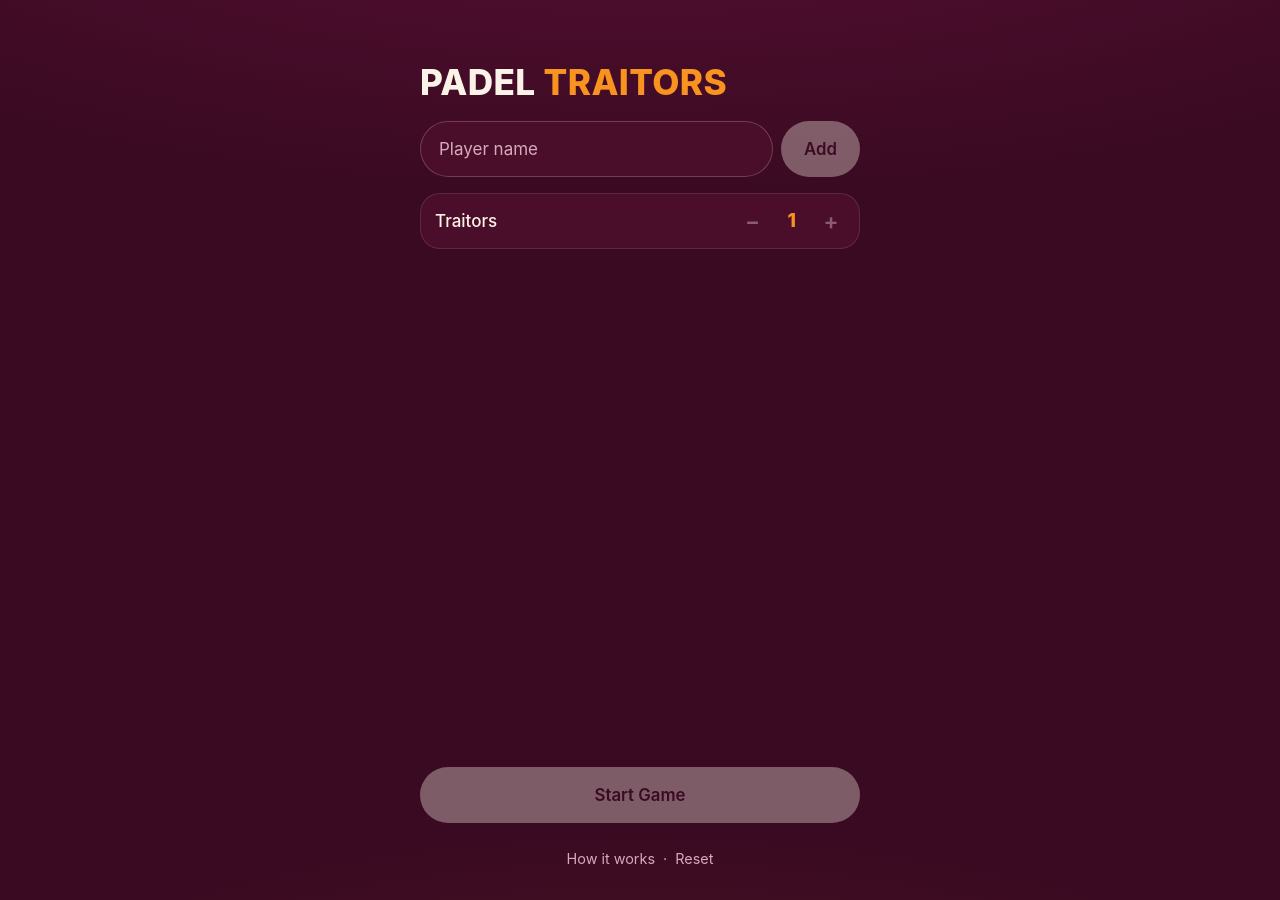
setup › keeps at least one Faithful
This screenshot has width=1280, height=900.
In the field labelled "Player name": (597, 149) [420, 121, 773, 177], type "Ana"
Then press Enter
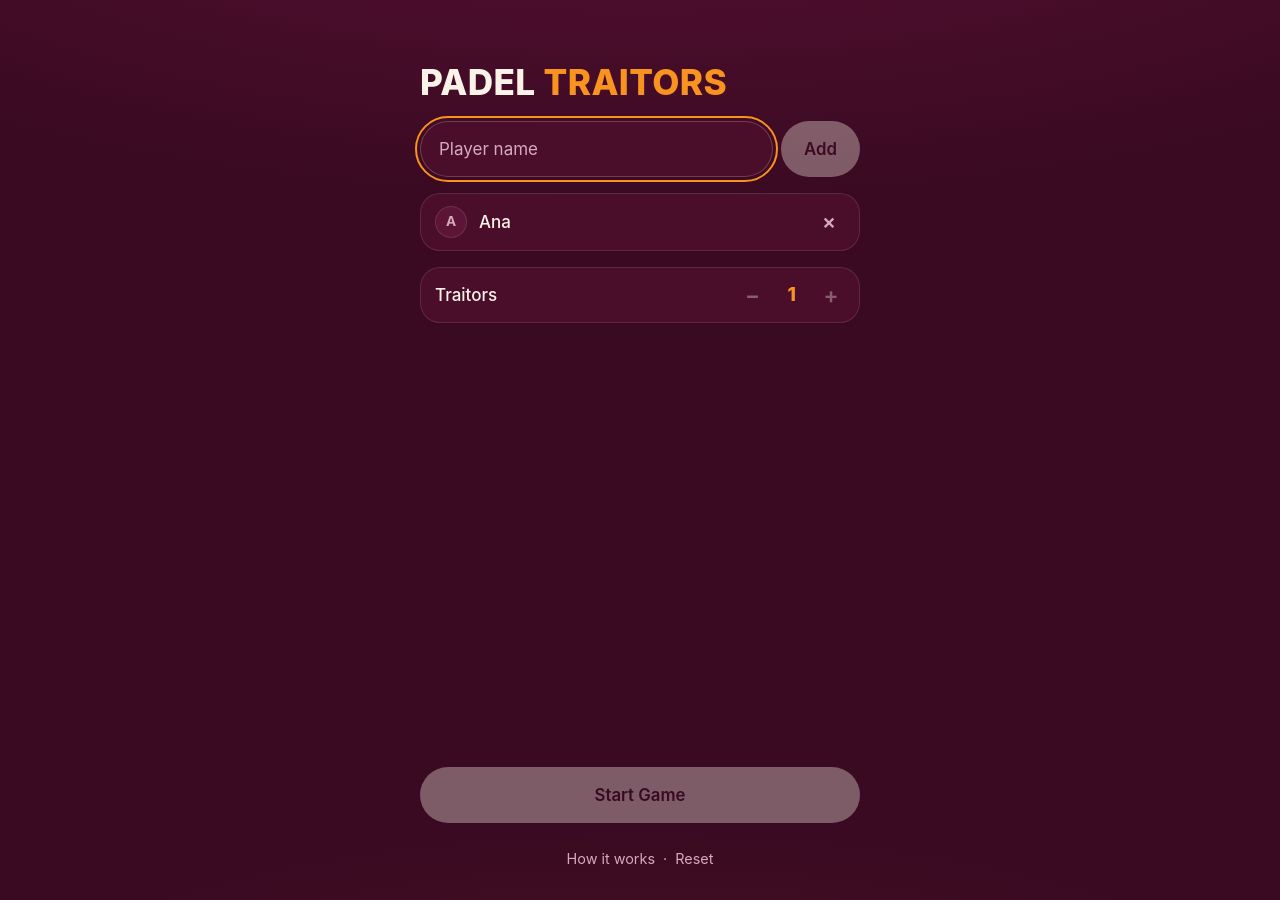
In the field labelled "Player name": (597, 149) [420, 121, 773, 177], type "Ben"
Then press Enter
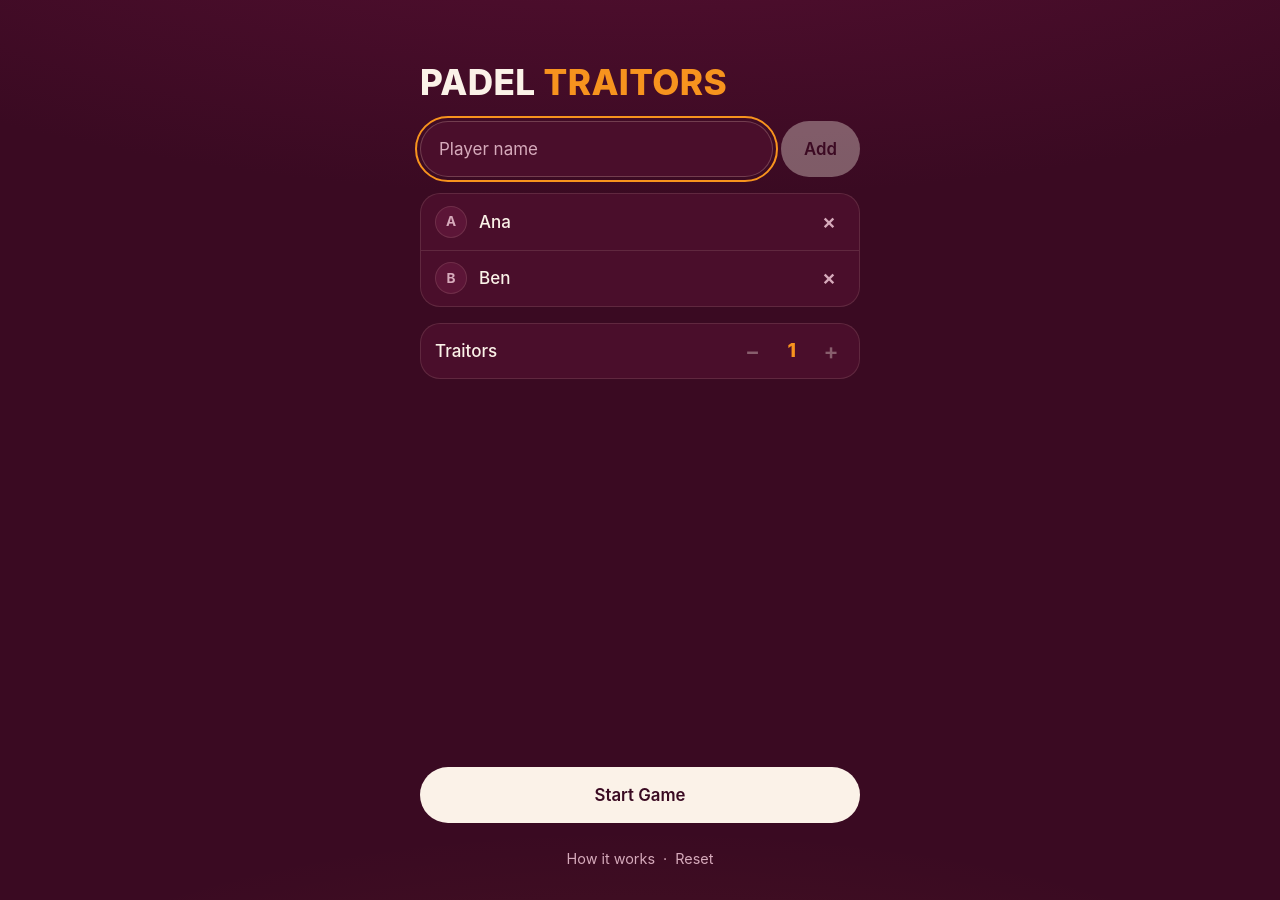
In the field labelled "Player name": (597, 149) [420, 121, 773, 177], type "Cal"
Then press Enter
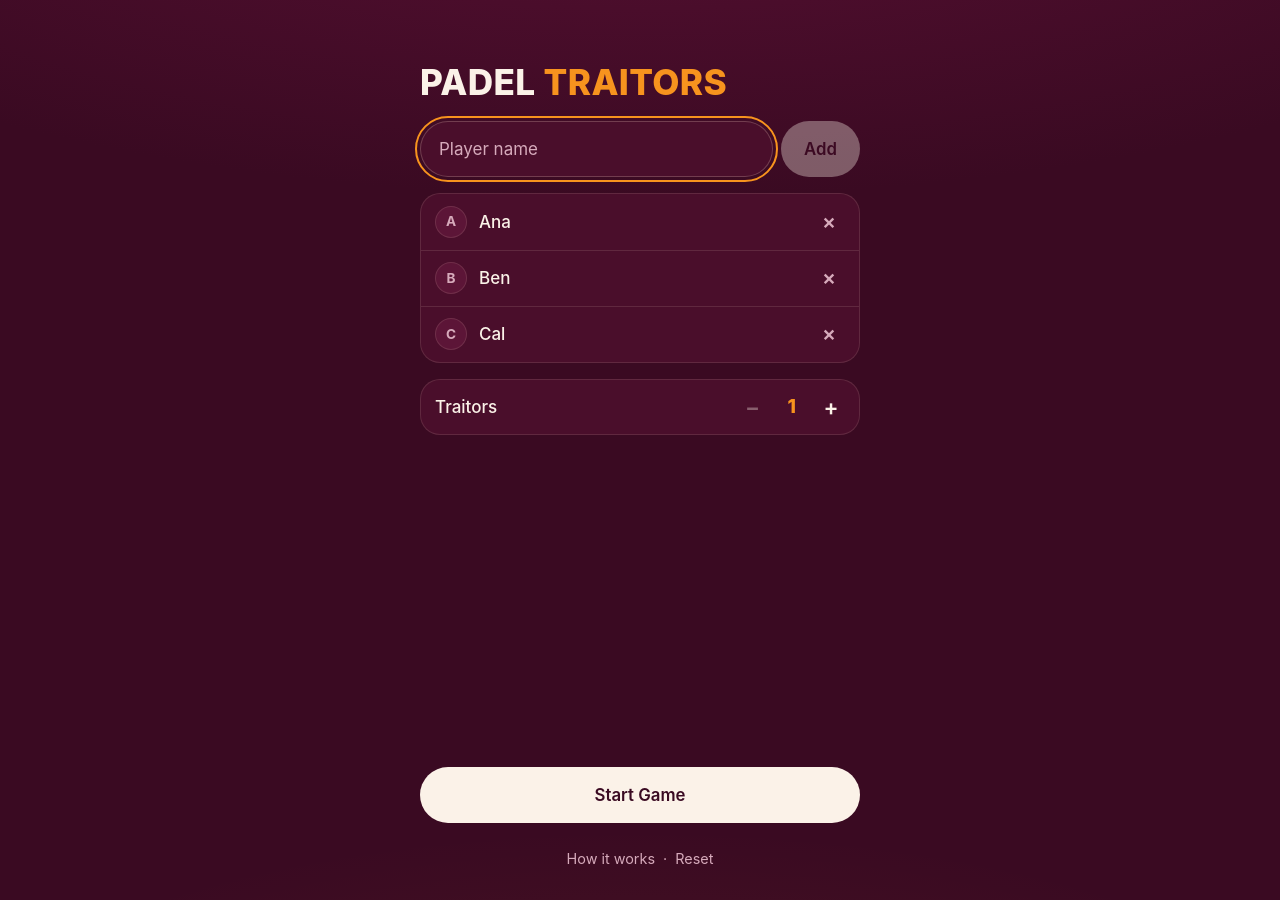
Click the button named "More Traitors": (831, 407) [809, 385, 853, 429]
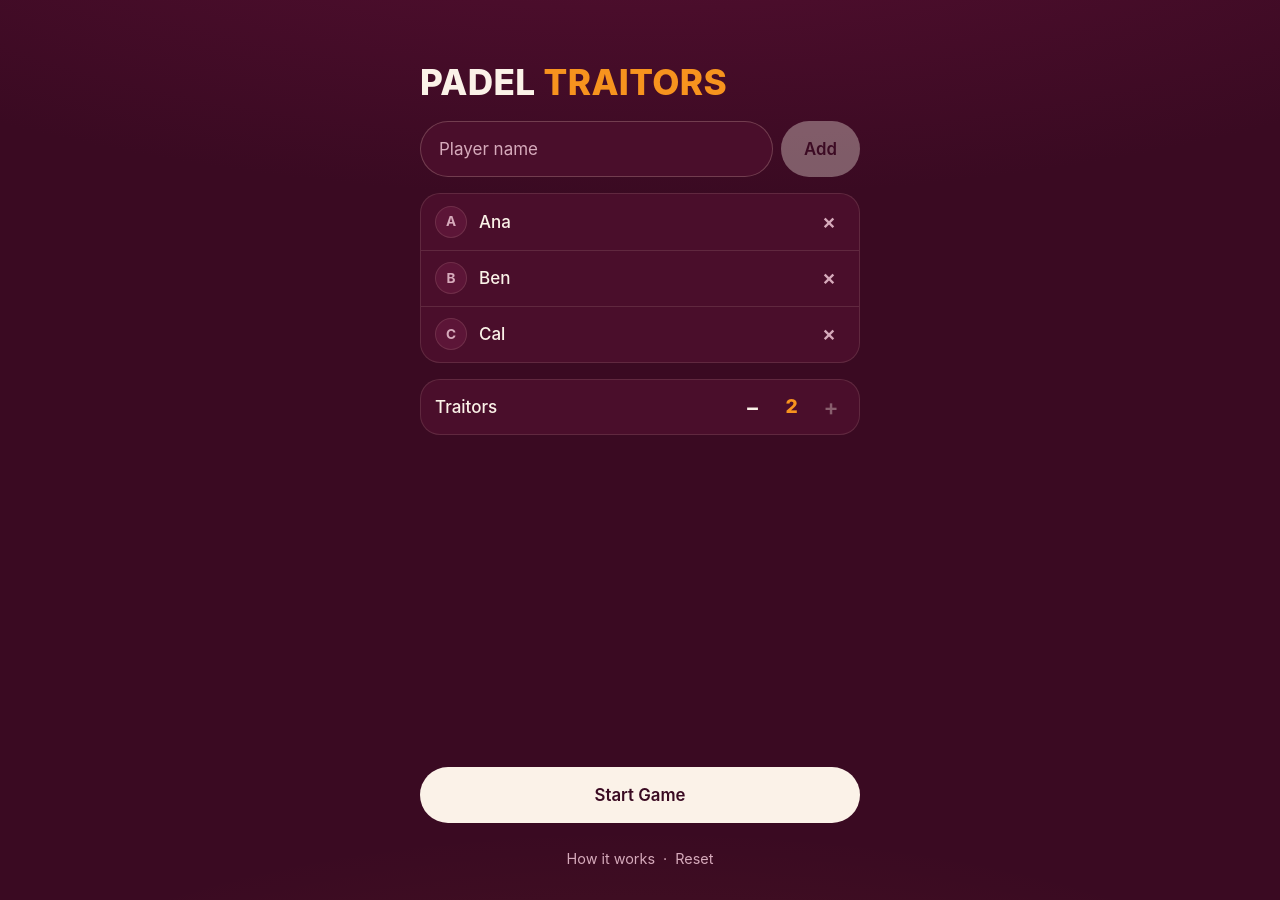
Now the text named "Number of Traitors" reads "2", box [786, 394, 798, 418]
Now the button named "More Traitors" is disabled, box [809, 385, 853, 429]
